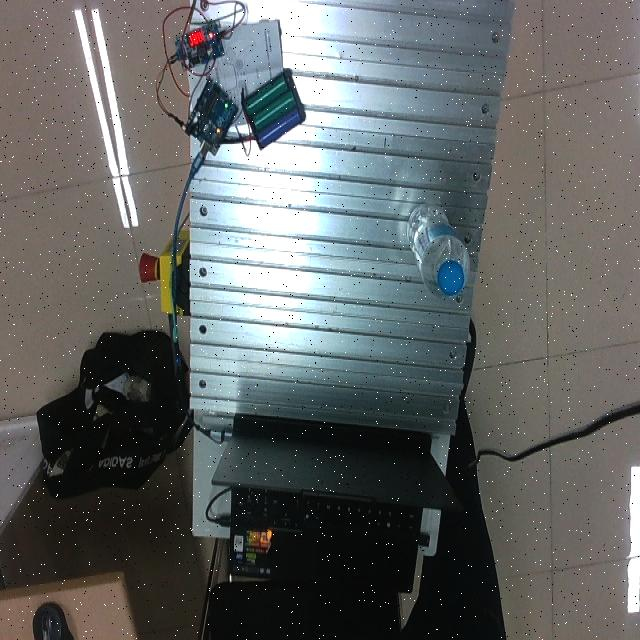lavie: (405, 206, 470, 302)
